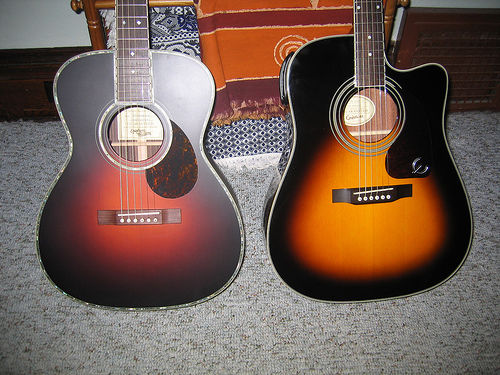guitar: (33, 1, 248, 312), (260, 1, 475, 305)
